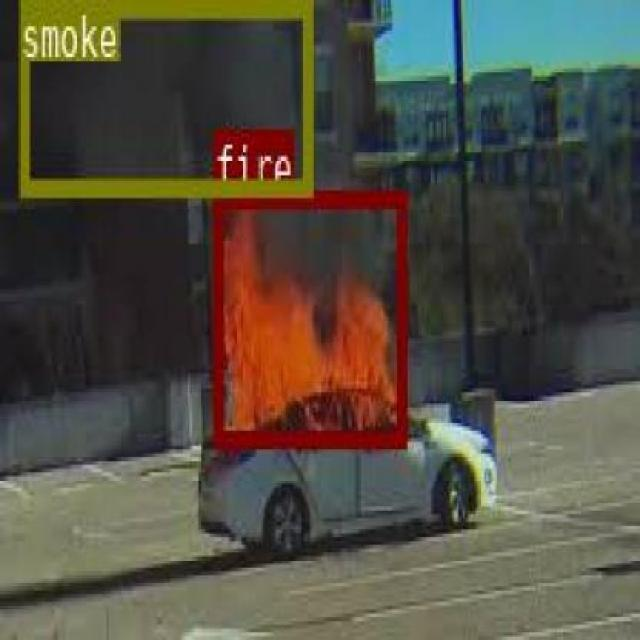Fire: (212, 186, 405, 442)
Smoke: (19, 0, 312, 191)
